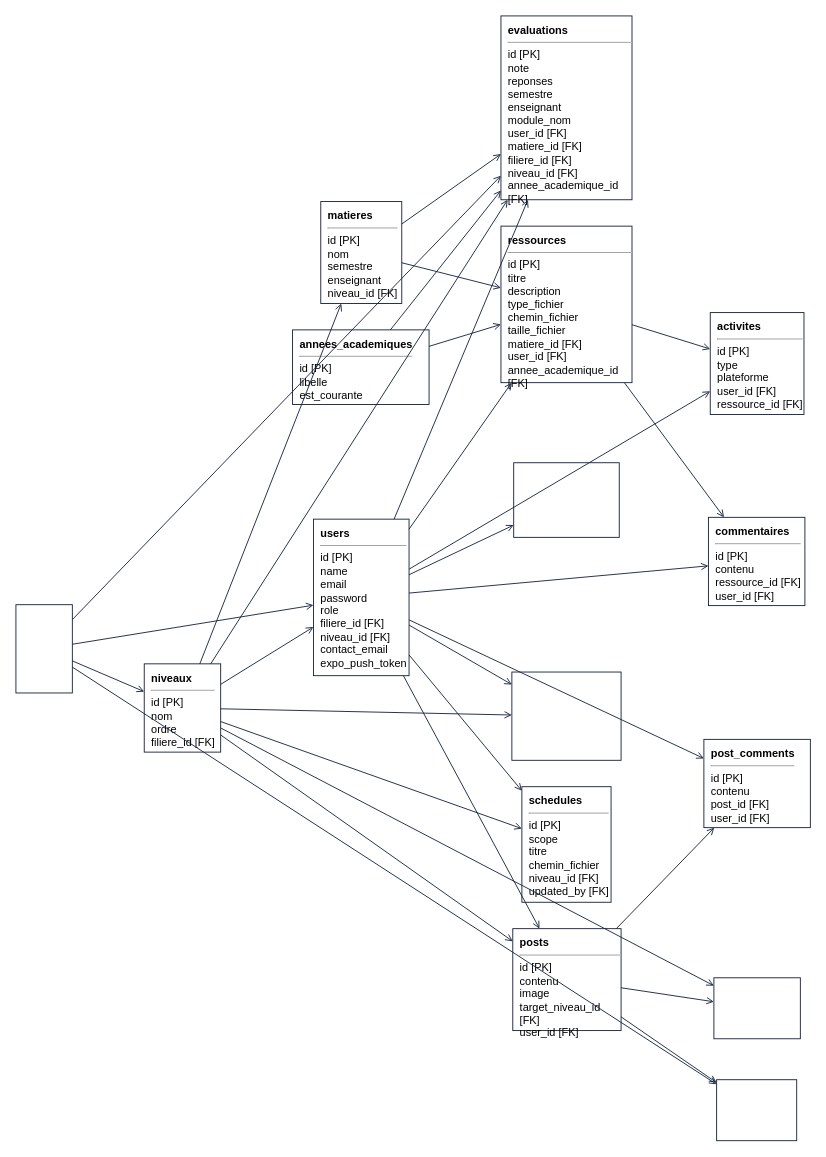
This 826x1157 diagram has some shape labels left out. The box of each missing label's shape, as (x1, y1, x2, y2) in pixels:
class_messages id [PK] contenu niveau_id [FK] user_id [FK]: (511, 671, 621, 760)
filieres id [PK] code nom couleur: (15, 604, 72, 693)
post_filiere post_id [FK] filiere_id [FK]: (716, 1079, 797, 1141)
post_niveau post_id [FK] niveau_id [FK]: (713, 977, 800, 1039)
trusted_devices id [PK] user_id [FK] device_hash: (513, 462, 619, 537)
